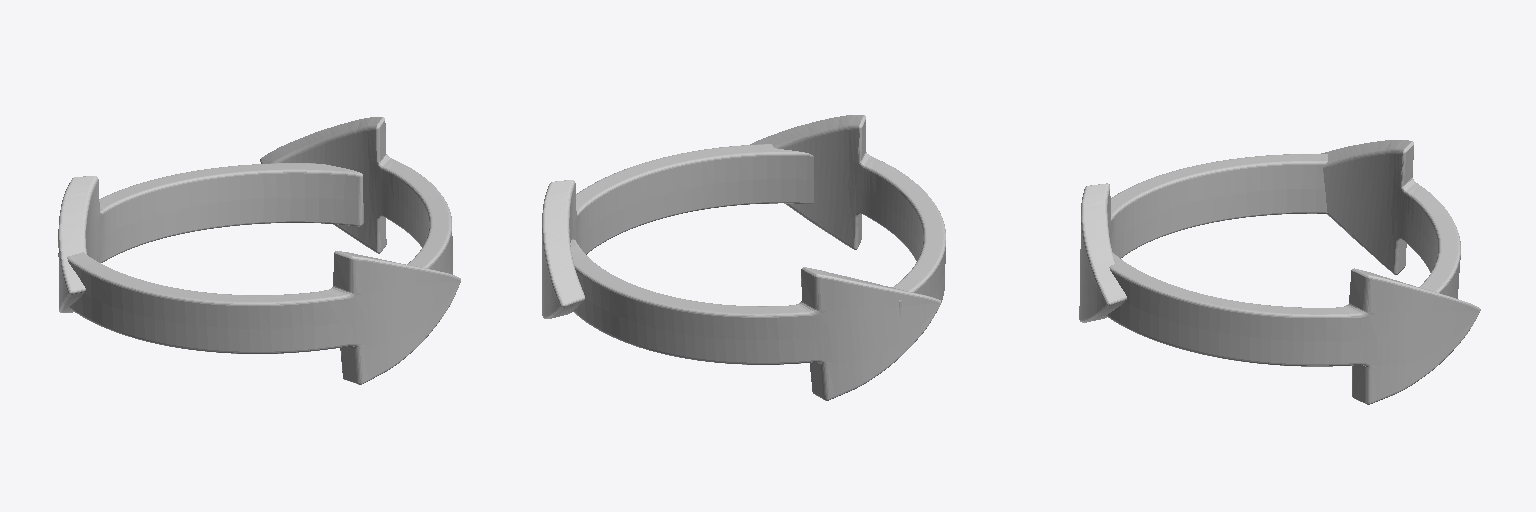
The model's file is arrow_circle.obj.
3 renders of one model, left to right at view 1: azimuth 30°, elevation 25°; view 2: azimuth 150°, elevation 25°; view 3: azimuth 270°, elevation 25°, orthographic.
Parts seen in each view (by area): view 1: node_id79_mesh_id80, node_id89_mesh_id90, node_id71_mesh_id72; view 2: node_id89_mesh_id90, node_id71_mesh_id72, node_id79_mesh_id80; view 3: node_id71_mesh_id72, node_id79_mesh_id80, node_id89_mesh_id90.
Boxes of the visible parts, x1,y1,x2,y2 form: node_id79_mesh_id80: [58, 251, 460, 384]; node_id89_mesh_id90: [58, 163, 363, 312]; node_id71_mesh_id72: [260, 117, 452, 274]; node_id89_mesh_id90: [570, 239, 941, 400]; node_id71_mesh_id72: [542, 144, 813, 318]; node_id79_mesh_id80: [750, 115, 945, 314]; node_id71_mesh_id72: [1106, 253, 1480, 404]; node_id79_mesh_id80: [1079, 154, 1327, 322]; node_id89_mesh_id90: [1321, 140, 1460, 298].
Bounding box in the file's own units: 0.5955 × 0.2216 × 0.5745.